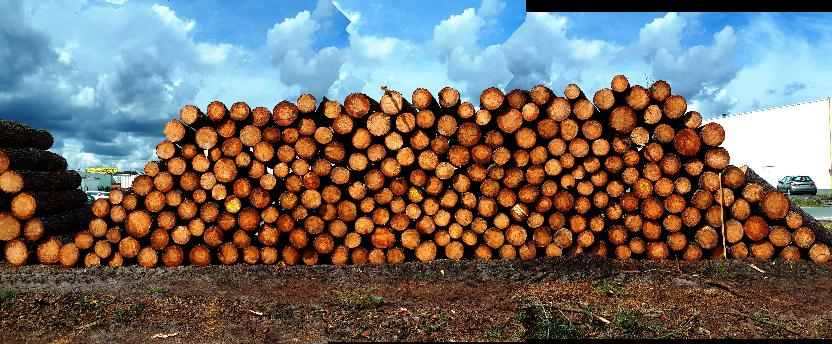etalon: (718, 172, 728, 260)
object: (674, 128, 700, 156), (763, 192, 789, 220), (124, 212, 152, 238), (36, 238, 62, 264), (0, 170, 26, 194), (12, 194, 36, 220), (747, 216, 771, 241), (1, 210, 19, 243), (612, 108, 636, 132), (498, 109, 522, 133), (380, 90, 402, 116), (457, 123, 481, 146), (274, 101, 296, 126), (626, 86, 648, 110), (346, 94, 370, 116), (548, 97, 572, 119), (368, 112, 390, 136), (580, 119, 604, 141), (556, 120, 580, 142), (702, 123, 724, 147), (214, 158, 236, 182), (372, 227, 396, 249), (665, 96, 687, 118), (196, 126, 218, 148), (707, 148, 729, 170), (24, 220, 46, 242), (60, 244, 80, 268), (416, 242, 439, 262), (482, 88, 502, 110), (539, 120, 559, 142), (240, 127, 262, 147), (252, 142, 274, 162), (419, 150, 439, 172), (661, 154, 681, 176), (526, 164, 546, 186), (504, 166, 524, 188), (700, 169, 720, 191), (632, 179, 654, 199), (743, 184, 765, 204), (143, 192, 165, 212), (238, 208, 260, 228), (259, 223, 279, 245), (771, 225, 791, 247), (148, 230, 170, 250), (313, 234, 335, 254), (652, 79, 672, 101), (249, 188, 272, 207), (409, 130, 430, 150), (132, 175, 152, 196), (302, 190, 322, 211), (554, 192, 574, 213), (477, 196, 497, 217), (724, 219, 744, 240), (119, 238, 140, 258), (297, 137, 316, 159), (620, 190, 639, 212), (217, 245, 240, 263), (595, 90, 615, 110), (574, 99, 594, 119), (644, 104, 664, 124), (334, 114, 354, 134), (654, 124, 674, 144), (516, 128, 536, 148), (326, 142, 346, 162), (684, 156, 704, 176), (725, 166, 745, 186), (279, 191, 299, 211), (338, 201, 358, 221), (795, 228, 815, 248), (234, 228, 254, 248), (288, 229, 308, 249), (164, 247, 184, 267), (439, 114, 457, 136), (366, 168, 384, 190), (520, 182, 538, 204), (644, 220, 662, 242), (699, 228, 717, 250), (402, 228, 420, 250), (190, 247, 212, 265), (223, 137, 242, 157), (642, 199, 662, 218), (682, 208, 702, 227), (507, 226, 526, 246), (484, 230, 504, 249), (810, 243, 830, 262), (439, 88, 460, 106), (480, 179, 501, 197), (321, 186, 343, 203), (468, 164, 487, 183), (416, 216, 435, 235), (508, 90, 528, 108), (298, 94, 316, 114), (252, 107, 270, 127), (397, 113, 415, 133), (299, 116, 317, 136), (166, 122, 186, 140), (352, 130, 372, 148), (612, 135, 632, 153), (430, 136, 450, 154), (570, 138, 590, 156), (548, 137, 566, 157), (644, 144, 664, 162), (472, 145, 492, 163), (450, 148, 470, 166), (606, 154, 624, 174), (169, 156, 187, 176), (332, 165, 350, 185), (180, 172, 200, 190), (454, 172, 472, 192), (154, 173, 172, 193), (424, 178, 444, 196), (347, 182, 367, 200), (374, 188, 394, 206), (666, 196, 686, 214), (177, 202, 197, 220), (708, 207, 726, 227), (625, 214, 643, 234), (305, 216, 325, 234), (90, 218, 108, 238), (554, 228, 572, 248), (445, 241, 465, 259), (682, 244, 704, 260), (277, 214, 295, 233), (610, 225, 628, 244), (139, 247, 157, 266), (714, 190, 734, 207), (216, 120, 237, 136), (180, 106, 198, 124), (632, 127, 650, 145), (485, 130, 503, 148), (622, 148, 640, 166), (512, 149, 530, 167), (350, 152, 368, 170), (192, 154, 210, 172), (382, 158, 400, 176), (314, 158, 332, 176), (248, 160, 266, 178), (656, 178, 674, 196), (234, 178, 252, 196), (440, 190, 458, 208), (422, 197, 440, 215), (320, 202, 338, 220), (511, 204, 529, 222), (434, 208, 452, 226), (218, 212, 236, 230), (330, 220, 348, 238), (172, 226, 190, 244), (204, 227, 222, 245), (344, 232, 362, 250), (650, 242, 668, 260), (611, 74, 629, 92), (414, 88, 430, 108), (262, 126, 282, 142), (437, 160, 453, 180), (500, 188, 516, 208), (696, 190, 712, 210), (93, 198, 109, 218), (734, 200, 750, 220), (373, 208, 389, 228), (754, 242, 774, 258), (262, 246, 278, 266), (302, 246, 318, 266), (388, 249, 408, 265), (208, 103, 226, 120), (231, 103, 249, 120), (390, 177, 408, 194), (202, 203, 220, 220), (261, 205, 279, 222), (663, 216, 681, 233), (669, 234, 687, 251), (592, 139, 611, 155), (332, 247, 348, 266), (532, 86, 548, 104), (325, 100, 341, 118), (522, 103, 540, 119), (418, 110, 434, 128), (684, 112, 702, 128), (316, 126, 332, 144), (386, 132, 402, 150), (368, 145, 386, 161), (278, 146, 296, 162), (494, 146, 510, 164), (397, 149, 415, 165), (236, 150, 252, 168), (546, 158, 562, 176), (486, 164, 504, 180), (644, 164, 660, 182), (591, 171, 609, 187), (302, 172, 320, 188), (200, 172, 216, 190), (676, 177, 692, 195), (606, 180, 622, 198), (212, 183, 228, 201), (593, 190, 609, 208), (535, 195, 553, 211), (406, 202, 422, 220), (607, 203, 623, 221), (457, 209, 473, 227), (158, 212, 176, 228), (570, 216, 588, 232), (357, 217, 373, 235), (534, 230, 552, 246), (76, 231, 92, 249), (283, 247, 299, 265), (622, 168, 640, 183), (474, 245, 492, 260), (459, 102, 475, 118), (476, 110, 492, 126), (282, 127, 298, 143), (158, 142, 174, 158), (532, 147, 548, 163), (292, 160, 308, 176), (274, 162, 290, 178), (410, 169, 426, 185), (260, 174, 276, 190), (286, 175, 302, 191), (408, 186, 424, 202), (166, 189, 182, 205), (360, 197, 376, 213), (787, 213, 803, 229), (392, 213, 408, 229), (462, 229, 478, 245), (244, 248, 260, 264), (352, 248, 368, 264), (584, 158, 602, 172), (576, 197, 590, 215), (190, 217, 204, 235), (462, 192, 477, 208), (226, 197, 242, 212), (528, 214, 544, 229), (494, 214, 510, 229), (589, 216, 604, 232), (546, 243, 564, 256), (500, 245, 518, 258), (182, 142, 196, 158), (561, 153, 575, 169), (145, 163, 161, 177), (542, 182, 558, 196), (578, 182, 594, 196), (292, 206, 308, 220), (112, 205, 126, 221), (471, 219, 487, 233), (591, 242, 607, 256), (520, 243, 536, 257), (732, 243, 748, 257), (86, 254, 102, 268), (566, 84, 580, 100), (573, 163, 585, 181), (561, 175, 575, 190), (551, 214, 565, 229), (370, 249, 384, 264), (709, 245, 725, 258), (124, 194, 136, 211), (782, 247, 800, 258), (580, 232, 594, 246), (617, 246, 631, 260), (111, 189, 123, 205), (632, 237, 644, 253), (437, 230, 450, 244), (209, 147, 221, 161), (392, 198, 404, 212), (108, 230, 122, 242), (451, 223, 462, 238), (566, 245, 584, 254), (194, 191, 206, 203), (110, 253, 122, 265)
pile: (59, 72, 831, 268)
